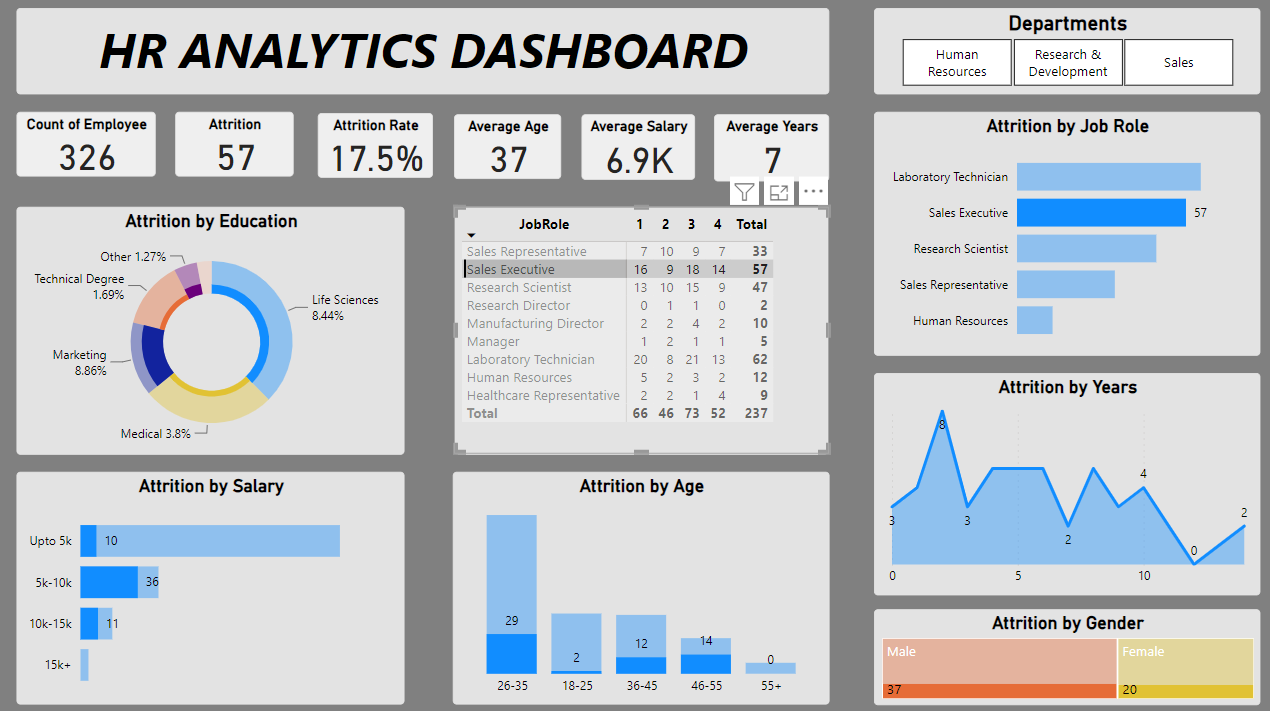

The dashboard page shown, as its layout file describes it:
{"tool":"powerbi","page":{"name":"Page 1","canvas":[1280,720],"ordinal":0},"visuals":[{"type":"card","title":"Count of Employee","fields":{"Values":["CountNonNull(HR_Analytics.EmpID)"]},"box":[17,113.8,139.4,64.9],"z":0},{"type":"card","title":"Attrition","fields":{"Values":["Sum(HR_Analytics.AttritionCount)"]},"box":[176.6,113.8,118.1,64.9],"z":1000},{"type":"card","title":"Attrition Rate","fields":{"Values":["HR_Analytics.AttritionRate"]},"box":[319.1,114.9,114.9,64.9],"z":2000},{"type":"card","title":"Average Age ","fields":{"Values":["Avg(HR_Analytics.Age)"]},"box":[455.3,116,107.4,64.9],"z":3000},{"type":"card","title":"Average Salary","fields":{"Values":["Avg(HR_Analytics.MonthlyIncome)"]},"box":[583,116,113.8,66],"z":4000},{"type":"card","title":"Average Years ","fields":{"Values":["Avg(HR_Analytics.YearsAtCompany)"]},"box":[714.9,116,114.9,67],"z":5000},{"type":"donutChart","title":"Attrition by Education","fields":{"Category":["HR_Analytics.EducationField"],"Y":["Sum(HR_Analytics.AttritionCount)"]},"box":[17,208.5,388.3,247.9],"z":6000},{"type":"columnChart","title":"Attrition by Age","fields":{"Category":["HR_Analytics.AgeGroup"],"Y":["Sum(HR_Analytics.AttritionCount)"]},"box":[453.2,473.4,376.6,233],"z":7000},{"type":"pivotTable","fields":{"Rows":["HR_Analytics.JobRole"],"Columns":["HR_Analytics.JobSatisfaction"],"Values":["Sum(HR_Analytics.AttritionCount)"]},"box":[455.3,208.5,374.5,247.9],"z":8000},{"type":"barChart","title":"Attrition by Salary","fields":{"Category":["HR_Analytics.SalarySlab"],"Y":["Sum(HR_Analytics.AttritionCount)"]},"box":[17,473.4,388.3,233],"z":9000},{"type":"barChart","title":"Attrition by Job Role","fields":{"Category":["HR_Analytics.JobRole"],"Y":["Sum(HR_Analytics.AttritionCount)"]},"box":[875.5,113.8,386.2,243.6],"z":10000},{"type":"areaChart","title":"Attrition by Years","fields":{"Category":["HR_Analytics.YearsAtCompany"],"Y":["Sum(HR_Analytics.AttritionCount)"]},"box":[875,375,386.2,222.5],"z":11000},{"type":"treemap","title":"Attrition by Gender","fields":{"Group":["HR_Analytics.Gender"],"Values":["Sum(HR_Analytics.AttritionCount)"]},"box":[875.5,610.6,386.2,95.7],"z":12000},{"type":"slicer","title":"Departments","fields":{"Values":["HR_Analytics.Department"]},"box":[875.5,9.6,386.2,86.2],"z":13000},{"type":"textbox","box":[17,9.6,812.8,86.2],"z":14000}]}

Visuals, with their boxes in screenshot pixels (x1, y1, x2, y2), scaled from the page's 1280x720 canvas onto the 1270x711 screenshot:
"Count of Employee" card: box=[17, 112, 155, 176]
"Attrition" card: box=[175, 112, 292, 176]
"Attrition Rate" card: box=[317, 113, 431, 178]
"Average Age " card: box=[452, 115, 558, 179]
"Average Salary" card: box=[578, 115, 691, 180]
"Average Years " card: box=[709, 115, 823, 181]
"Attrition by Education" donutChart: box=[17, 206, 402, 451]
"Attrition by Age" columnChart: box=[450, 467, 823, 698]
pivotTable - HR_Analytics.JobRole x HR_Analytics.JobSatisfaction: box=[452, 206, 823, 451]
"Attrition by Salary" barChart: box=[17, 467, 402, 698]
"Attrition by Job Role" barChart: box=[869, 112, 1252, 353]
"Attrition by Years" areaChart: box=[868, 370, 1251, 590]
"Attrition by Gender" treemap: box=[869, 603, 1252, 697]
"Departments" slicer: box=[869, 9, 1252, 95]
textbox: box=[17, 9, 823, 95]
